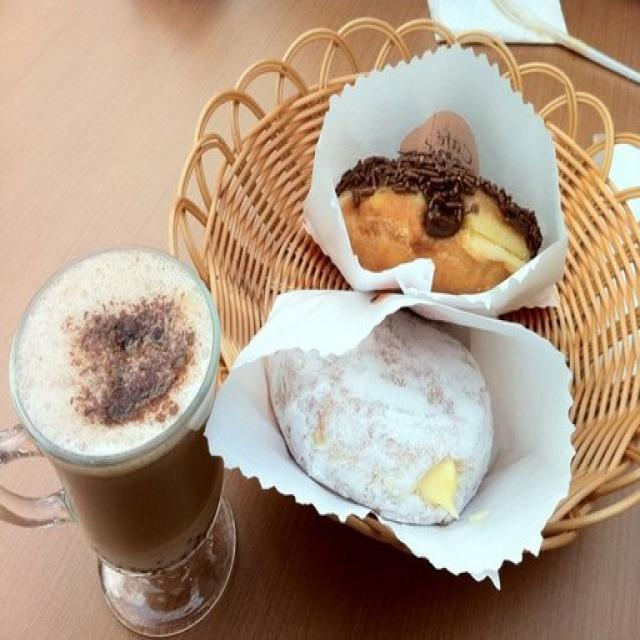Donuts: (251, 129, 581, 577)
